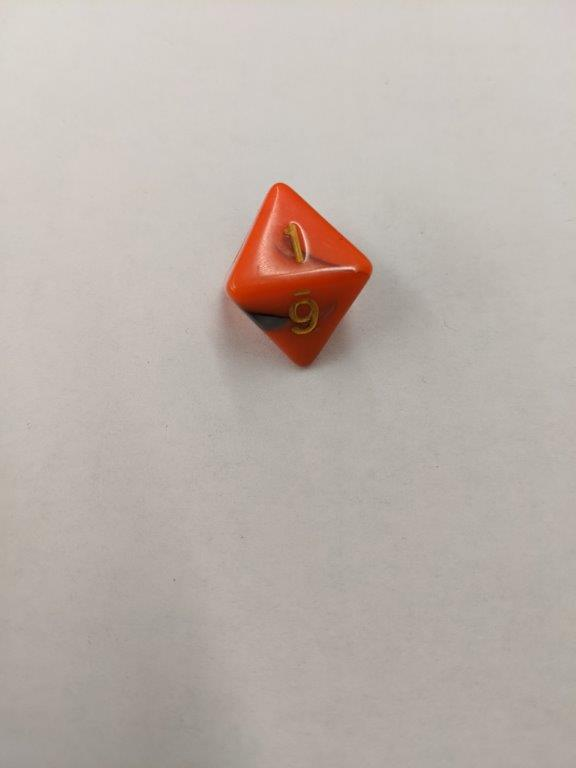d8-1: (225, 182, 373, 366)
